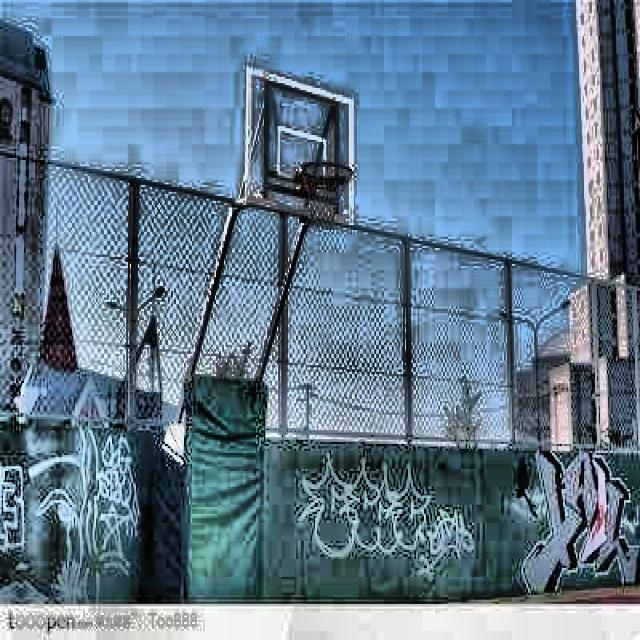rim: (299, 159, 354, 233)
